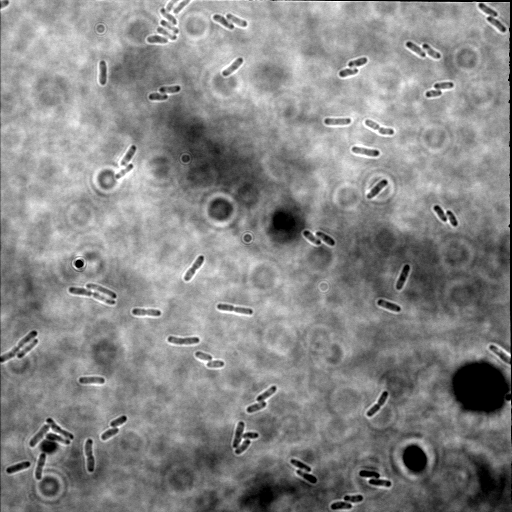Dividing: (1, 328, 39, 362), (68, 284, 117, 307), (365, 389, 390, 418), (182, 252, 205, 283), (364, 116, 395, 138), (216, 301, 254, 318), (83, 438, 98, 474), (166, 333, 201, 346), (131, 306, 162, 320)
Microcolony: (145, 1, 190, 45)
Rod: (392, 262, 413, 293), (84, 281, 118, 300), (365, 177, 389, 201), (27, 423, 49, 449), (221, 56, 244, 78), (404, 39, 428, 60), (15, 337, 39, 358), (350, 144, 381, 159), (485, 14, 507, 35), (375, 297, 402, 314), (118, 143, 137, 167), (295, 468, 319, 487), (211, 13, 236, 31), (231, 420, 246, 450), (34, 448, 48, 480), (301, 227, 323, 247), (420, 42, 442, 61), (5, 459, 31, 475), (288, 457, 314, 473), (477, 1, 500, 19), (112, 162, 135, 180), (366, 476, 395, 490), (226, 11, 248, 29), (315, 230, 337, 248), (233, 437, 253, 456), (99, 425, 120, 443), (256, 384, 277, 402), (97, 58, 110, 87), (322, 115, 353, 127), (76, 374, 106, 386), (345, 55, 370, 69), (336, 65, 360, 79), (244, 400, 268, 414), (329, 499, 354, 512), (357, 468, 382, 481), (431, 203, 448, 222), (444, 208, 459, 229), (107, 414, 128, 429), (341, 493, 366, 505), (193, 349, 214, 363), (432, 79, 455, 91), (157, 84, 181, 95), (204, 359, 226, 370), (148, 91, 169, 102), (424, 88, 444, 99), (242, 430, 260, 440)
